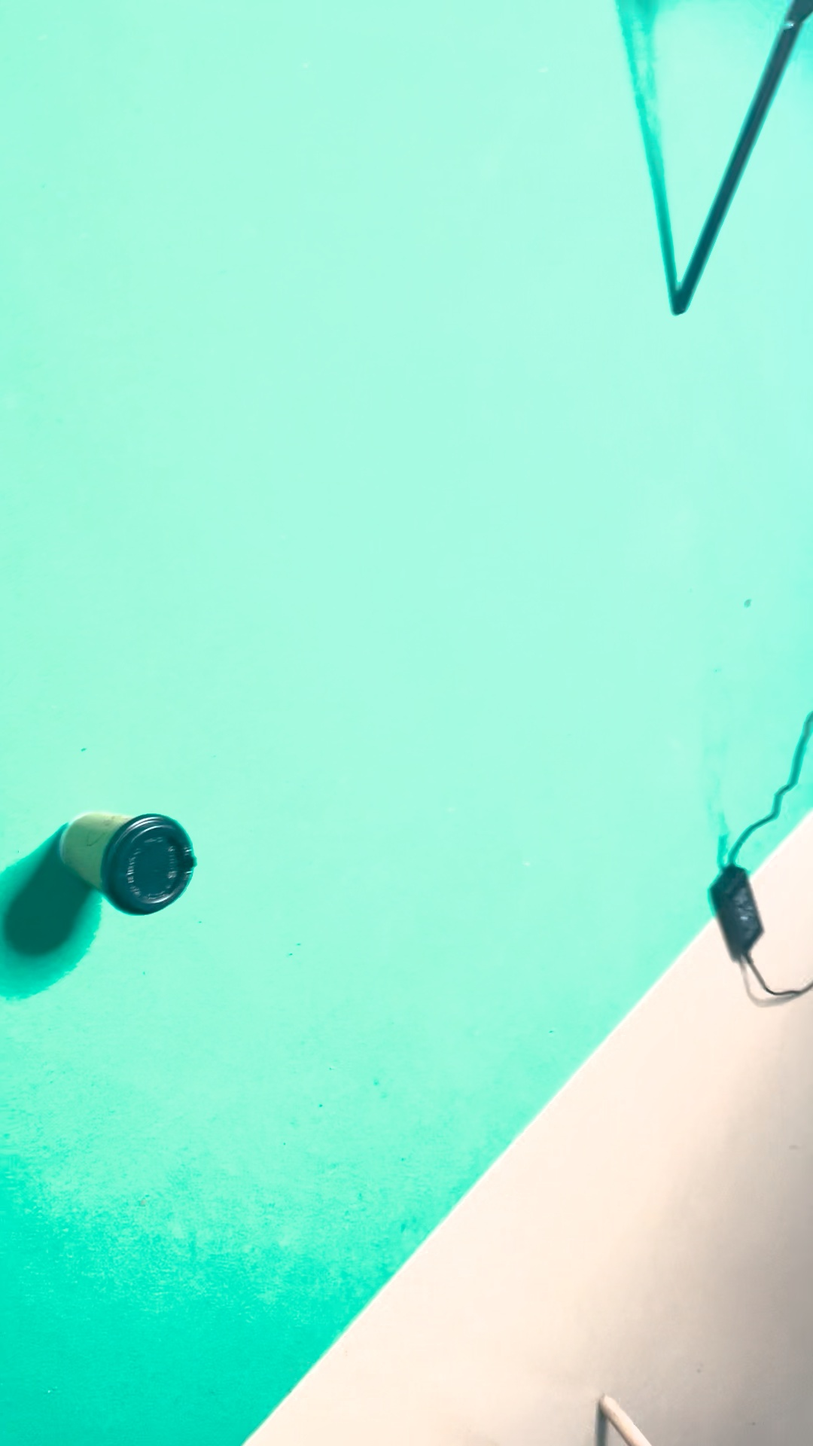cup: (424, 390, 511, 816)
